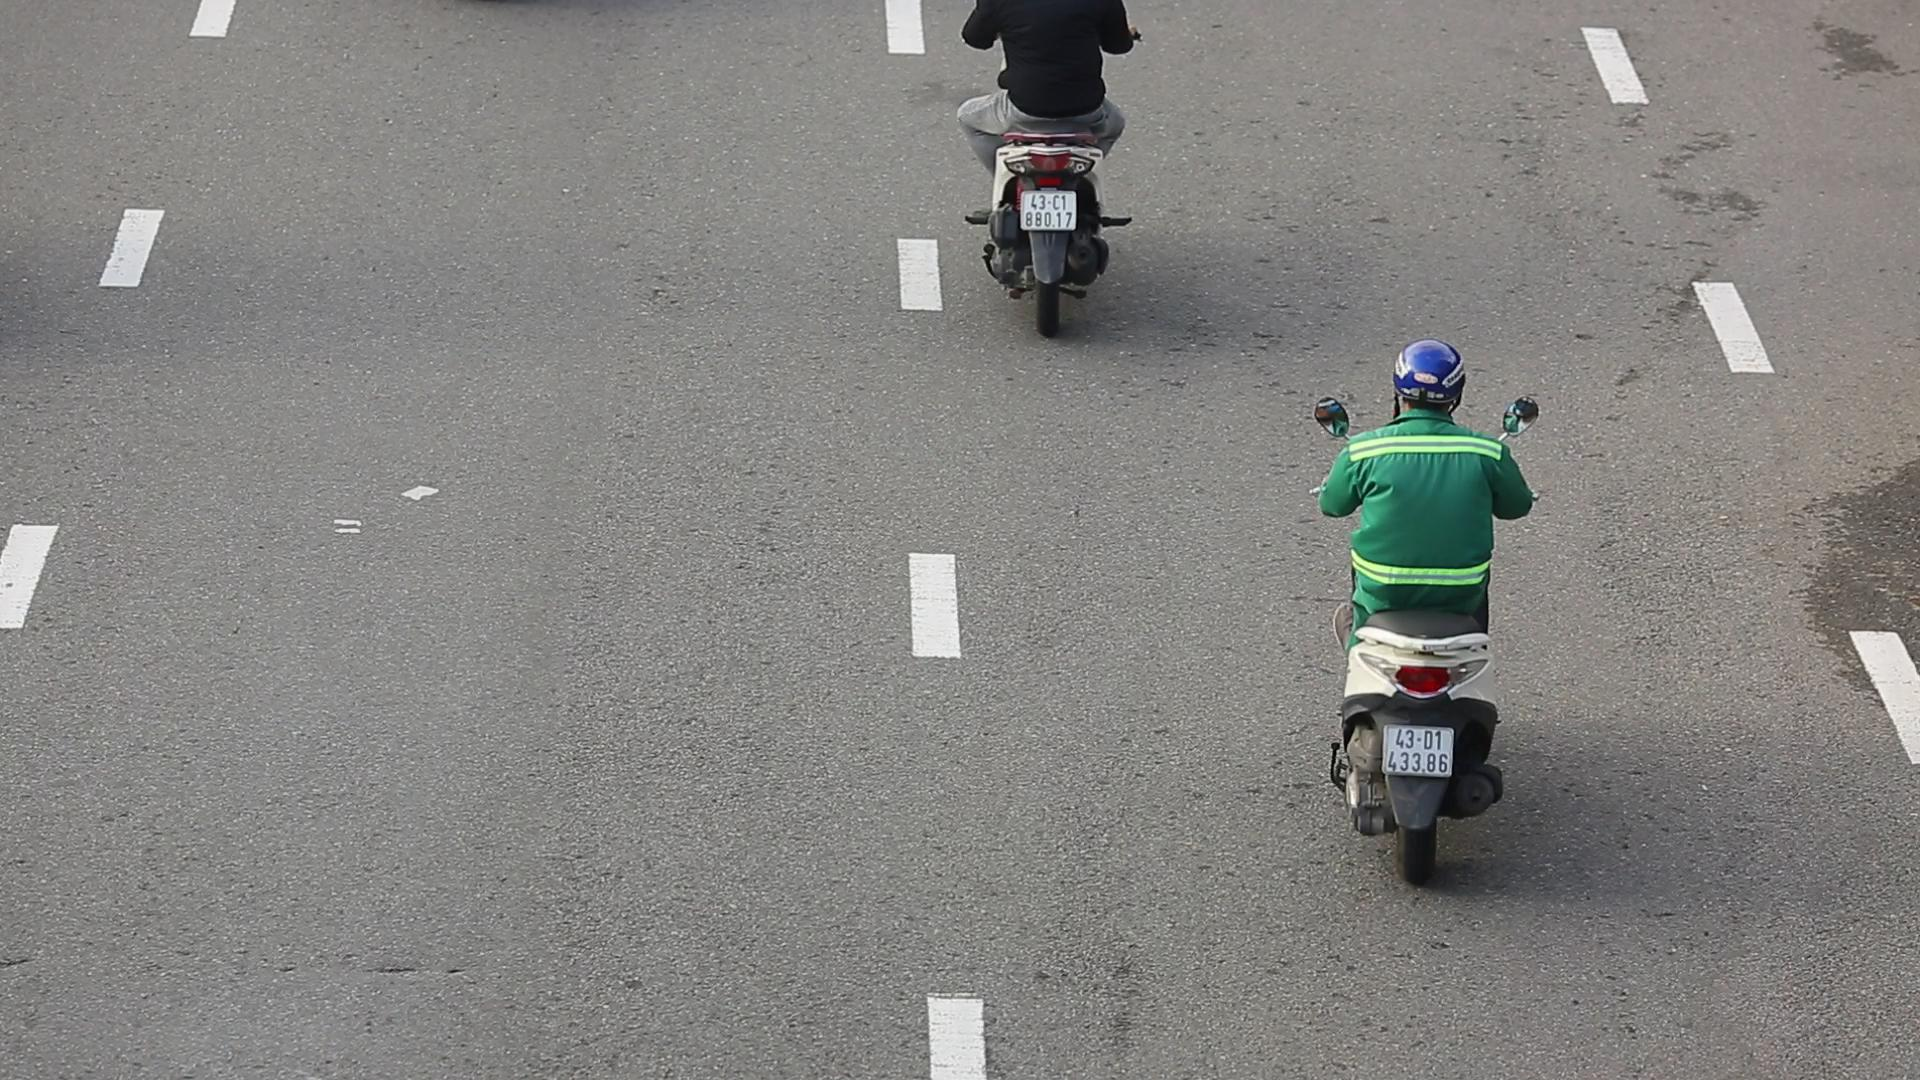motobike: (1303, 332, 1543, 893)
